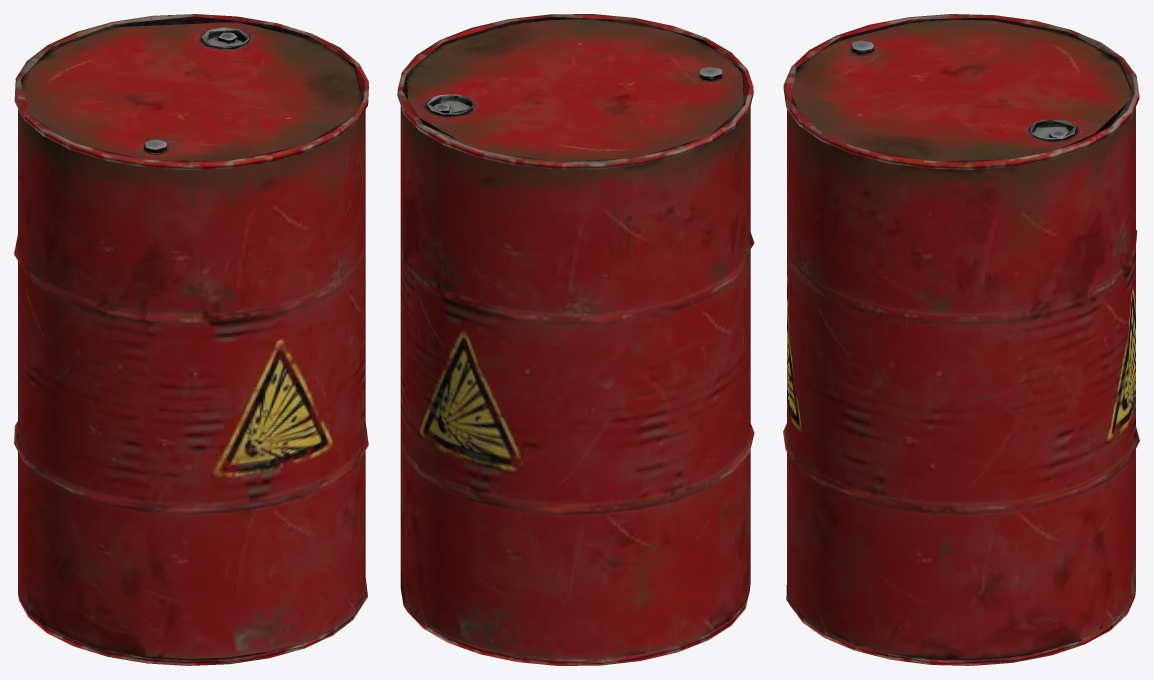
File: barrel_red.glb
3 views of the same model, side by side, from view 1: azimuth 30°, elevation 25°; view 2: azimuth 150°, elevation 25°; view 3: azimuth 270°, elevation 25° (orthographic).
Visible parts, largest first — view 1: Barrel_01; view 2: Barrel_01; view 3: Barrel_01.
Part boxes in pixels (left/top/right/bottom): Barrel_01: left=14, top=14, right=368, bottom=665; Barrel_01: left=397, top=14, right=754, bottom=665; Barrel_01: left=783, top=14, right=1139, bottom=665.
Bounding box in the file's own units: 0.5615 × 0.8789 × 0.5627.
1 material, 1 textured.
